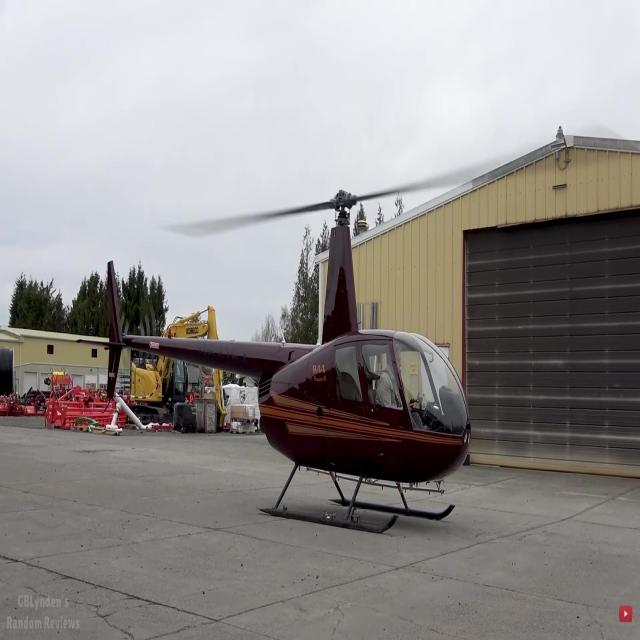CIV_HELO: (75, 186, 474, 539)
